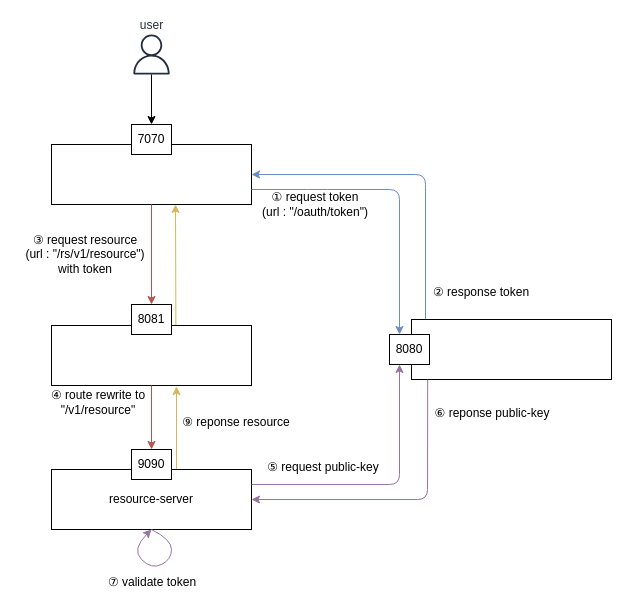
Some shapes in this 629 by 611 pixel diagram are drawn without their labels. The centre of each missing label's shape, as x and y in pixels:
authorization-server: (511,349)
gateway-server: (151,355)
resource-client: (151,174)
